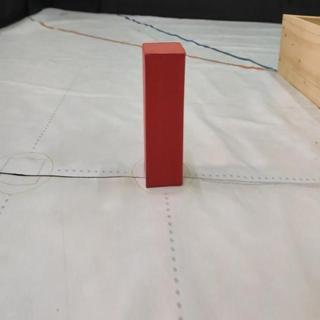redbox: (143, 42, 185, 187)
